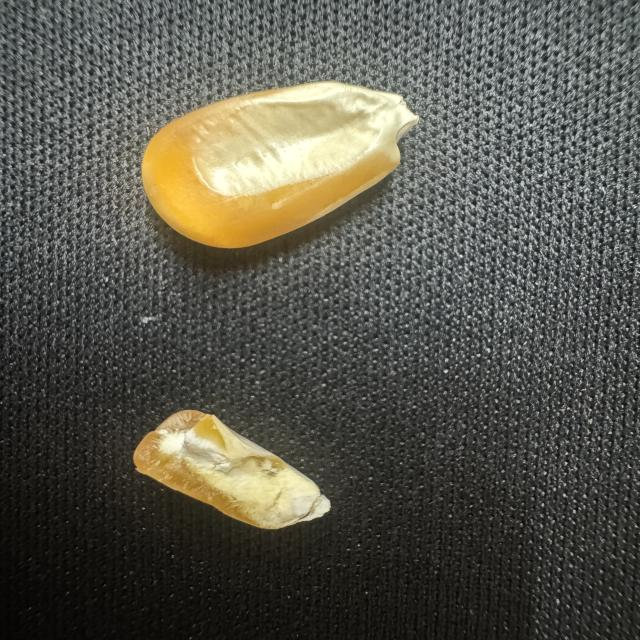Bad-Seed: (126, 404, 338, 536)
Good-Seed: (135, 77, 426, 255)
